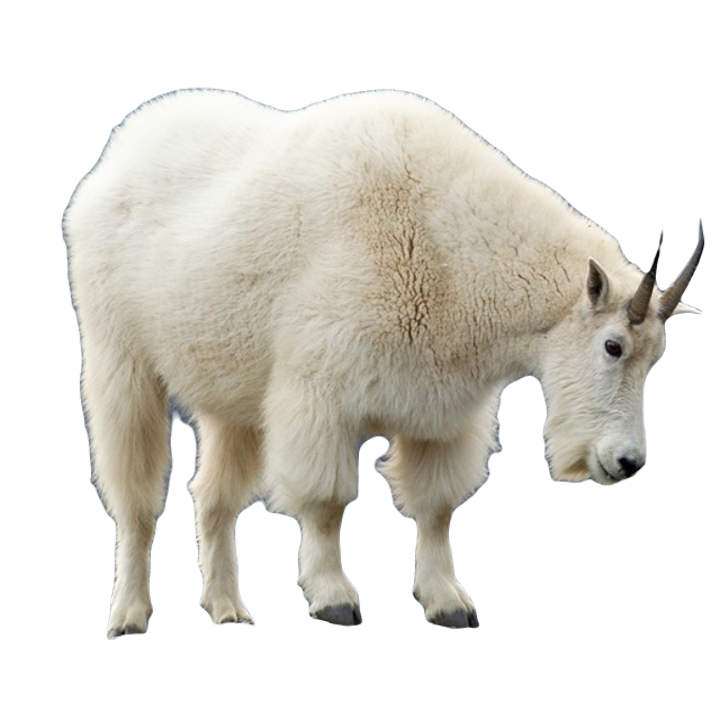Goat: (61, 89, 705, 643)
